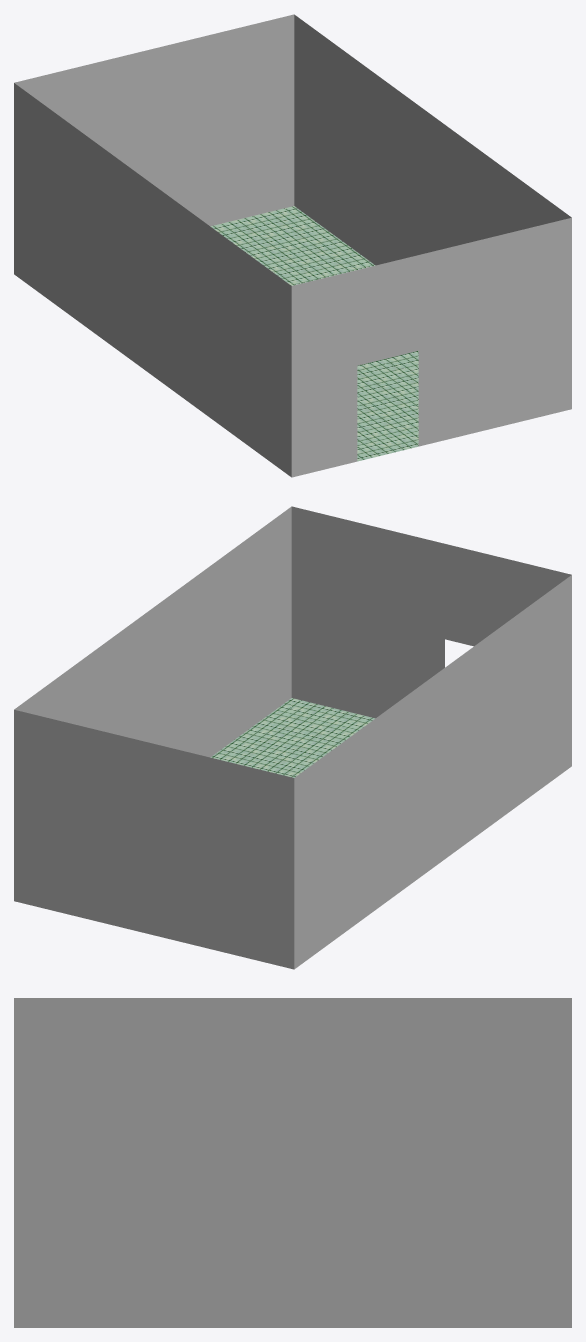
File: Bathroom_Room.fbx
3 views of the same model, one above another, from view 1: azimuth 30°, elevation 25°; view 2: azimuth 150°, elevation 25°; view 3: azimuth 270°, elevation 25° (orthographic).
Visible parts, largest first — view 1: BR_Walls, BR_Floor; view 2: BR_Walls, BR_Floor; view 3: BR_Walls.
Part boxes in pixels (bbox=[...]): BR_Walls: bbox=[14, 14, 571, 477]; BR_Floor: bbox=[210, 206, 418, 461]; BR_Walls: bbox=[14, 506, 571, 969]; BR_Floor: bbox=[210, 698, 375, 777]; BR_Walls: bbox=[14, 998, 571, 1327].
Size of the model in its own units: 3460 by 2260 by 5938.
